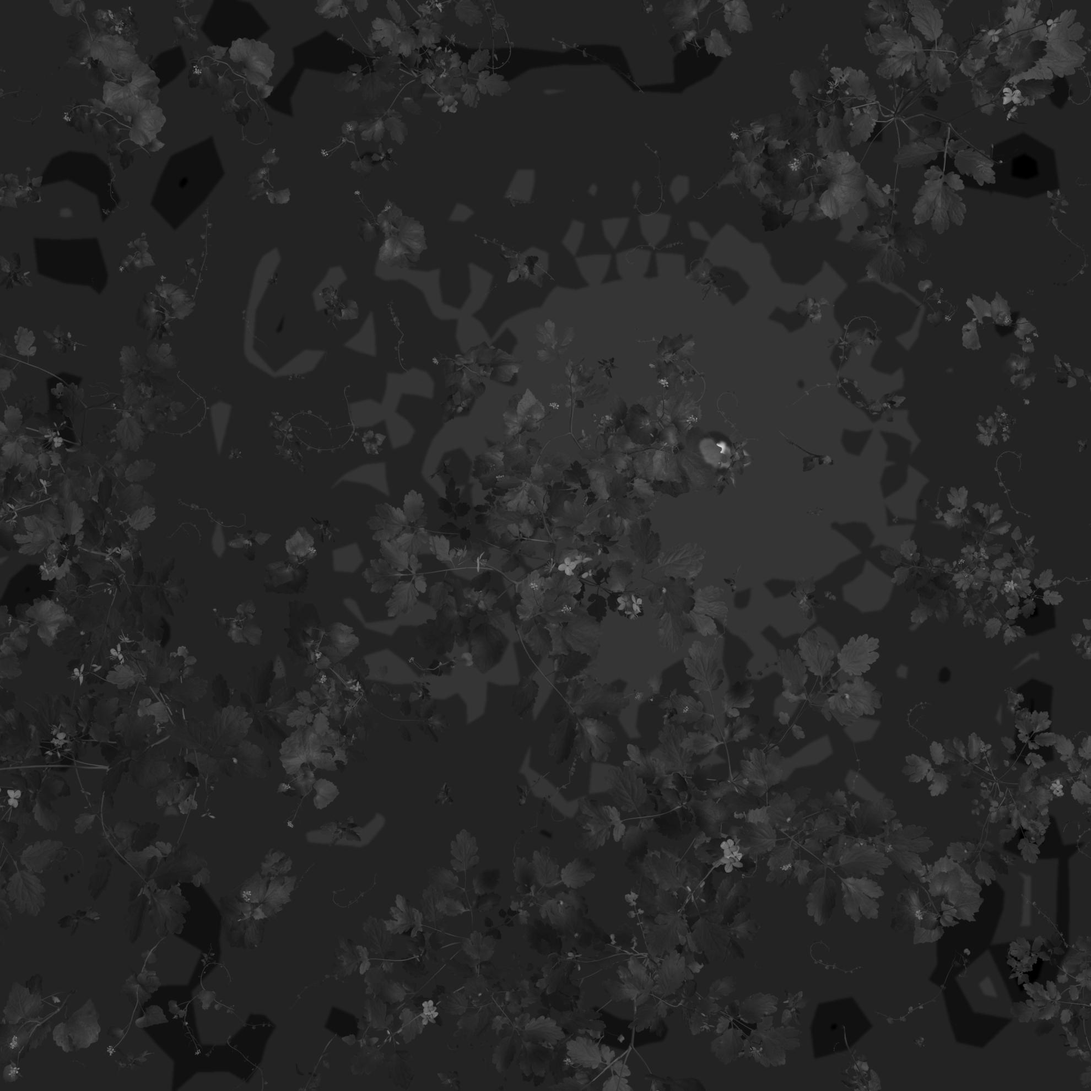landmine: (695, 434, 748, 472)
